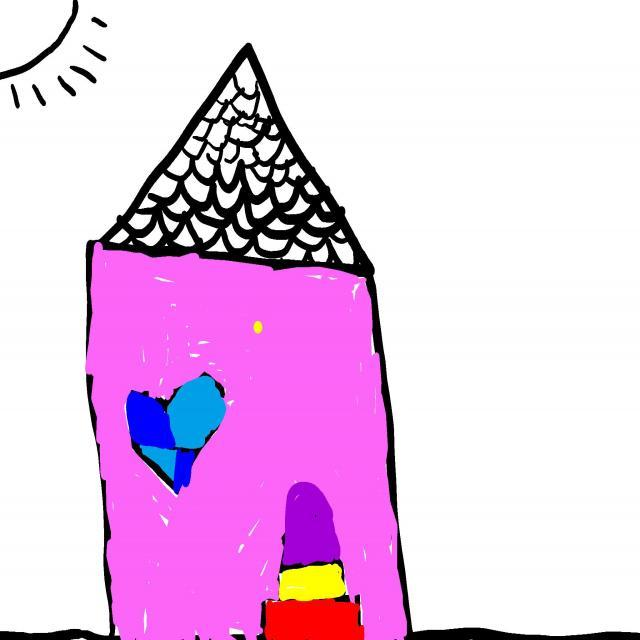door: (264, 484, 365, 640)
house: (86, 44, 410, 640)
roof: (100, 43, 374, 276)
wall: (88, 243, 412, 640)
window: (126, 374, 226, 494)
